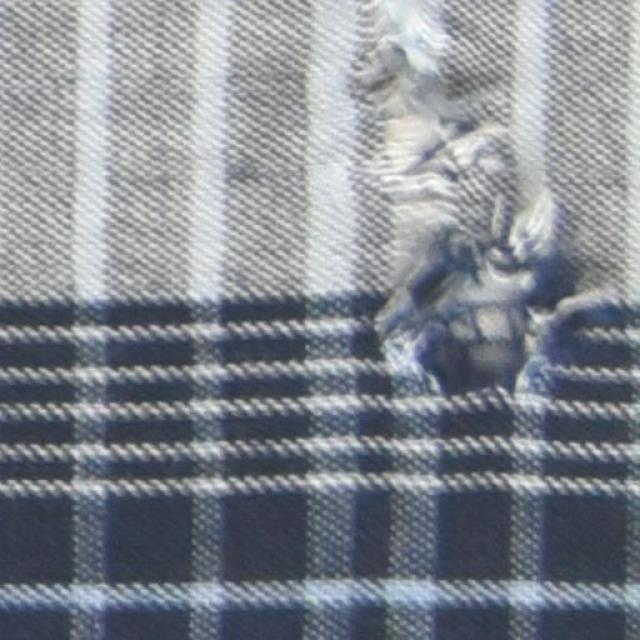Hole: (446, 268, 525, 366)
Snag: (358, 48, 601, 343), (381, 242, 492, 409)
